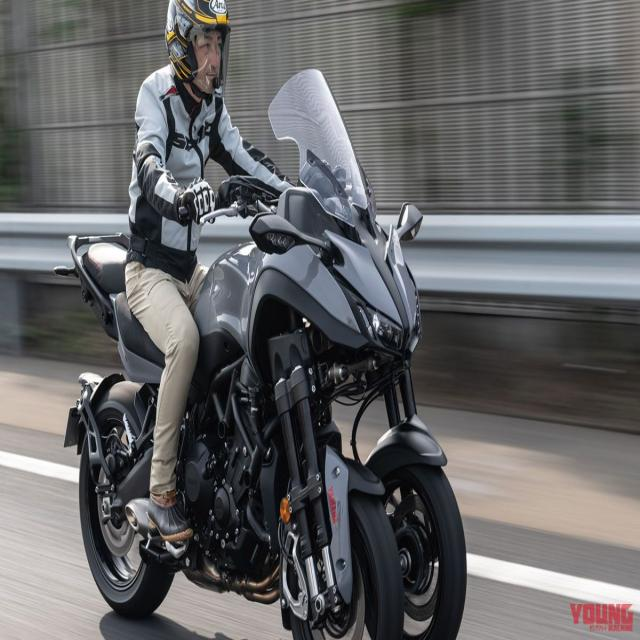Bike: (63, 70, 469, 640)
